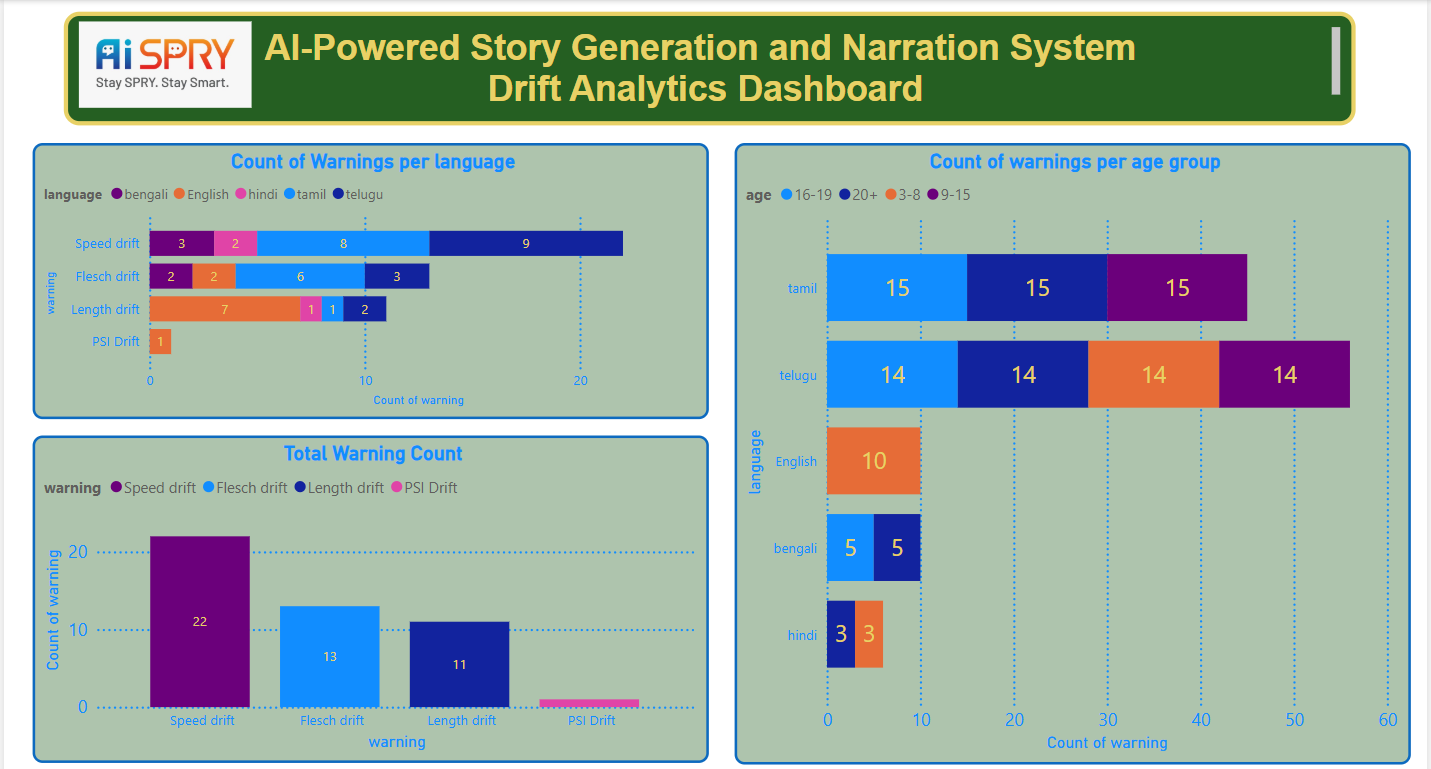

The dashboard page shown, as its layout file describes it:
{"tool":"powerbi","page":{"name":"Drift_Analytics_Dashboard","canvas":[1280,720],"ordinal":2},"visuals":[{"type":"textbox","box":[53.2,10.1,1162.3,102.7],"z":0},{"type":"image","box":[62.2,5.2,165.9,107.6],"z":1000},{"type":"barChart","title":"Count of Warnings per language","fields":{"Category":["language_with_warnings.warning"],"Series":["language_with_warnings.language"],"Y":["CountNonNull(language_with_warnings.warning)"]},"box":[26.2,128.1,608.3,248.6],"z":2000},{"type":"columnChart","title":"Total Warning Count","fields":{"Y":["CountNonNull(language_with_warnings.warning)"],"Category":["language_with_warnings.warning"],"Series":["language_with_warnings.warning"]},"box":[26.2,392.1,608.3,294.9],"z":5000},{"type":"barChart","title":"Count of warnings per age group","fields":{"Y":["CountNonNull(language_with_warnings.warning)"],"Category":["language_with_warnings.language"],"Series":["Drift_warnings.age"]},"box":[657.7,128.1,608.3,558.9],"z":6001}]}

Visuals, with their boxes on the page's 1280x720 design canvas (x1, y1, x2, y2). These are canvas units, not pixel positions in the 1431x769 screenshot, which may show the page scaled, cropped or inside an application window:
textbox: region(53, 10, 1216, 113)
image: region(62, 5, 228, 113)
"Count of Warnings per language" barChart: region(26, 128, 634, 377)
"Total Warning Count" columnChart: region(26, 392, 634, 687)
"Count of warnings per age group" barChart: region(658, 128, 1266, 687)
